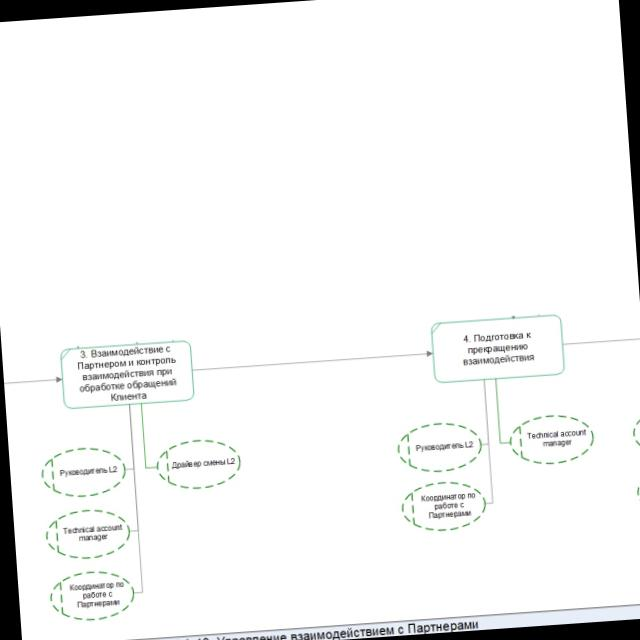arrow: (192, 346, 434, 374)
rectangle: (58, 338, 195, 410), (430, 312, 566, 383)
